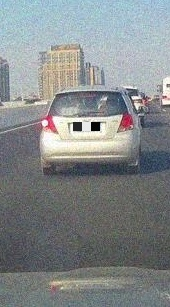L_light: (41, 115, 59, 134)
R_light: (116, 112, 134, 133)
T_light: (81, 92, 95, 95)
day-left: (40, 85, 140, 174)
plate_1: (73, 122, 100, 131)
